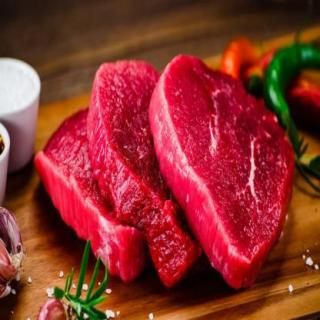Daging Sapi: (153, 54, 296, 291), (88, 59, 205, 288), (39, 110, 146, 283)
